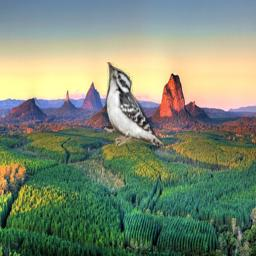Woodpecker: (101, 62, 164, 146)
